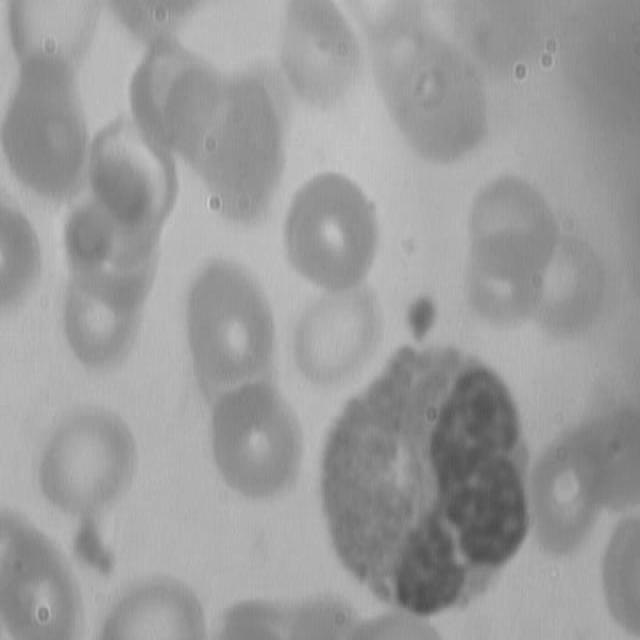Platelets: (402, 294, 448, 346)
RBC: (175, 254, 284, 418), (0, 49, 96, 208), (37, 393, 141, 535), (274, 165, 382, 300), (204, 381, 300, 507), (463, 168, 562, 287), (284, 282, 380, 402), (51, 275, 140, 380)
WBC: (300, 339, 565, 625)
